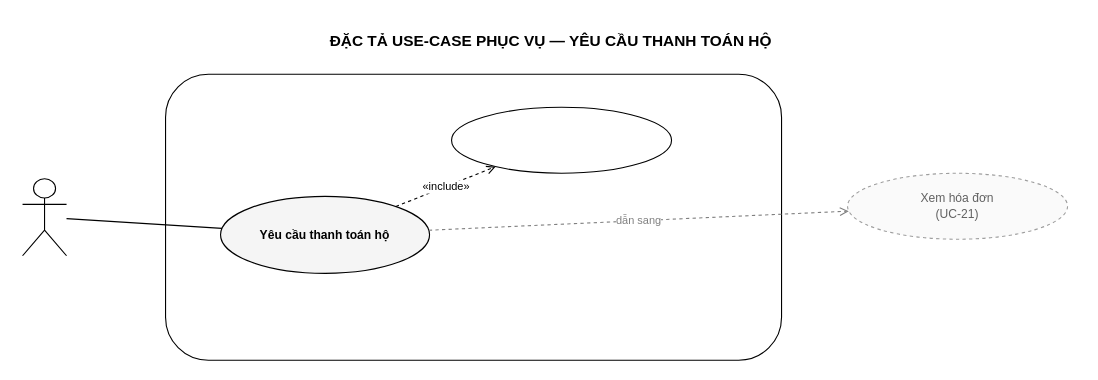
Some shapes in this 1098 by 380 pixel diagram are drawn without their labels. Here are the shapes that lost their labels. From the top down, the box of each, then its label:
(450, 106, 672, 173): Tạo yêu cầu thanh toán cho khách
(21, 178, 67, 256): Phục vụ
